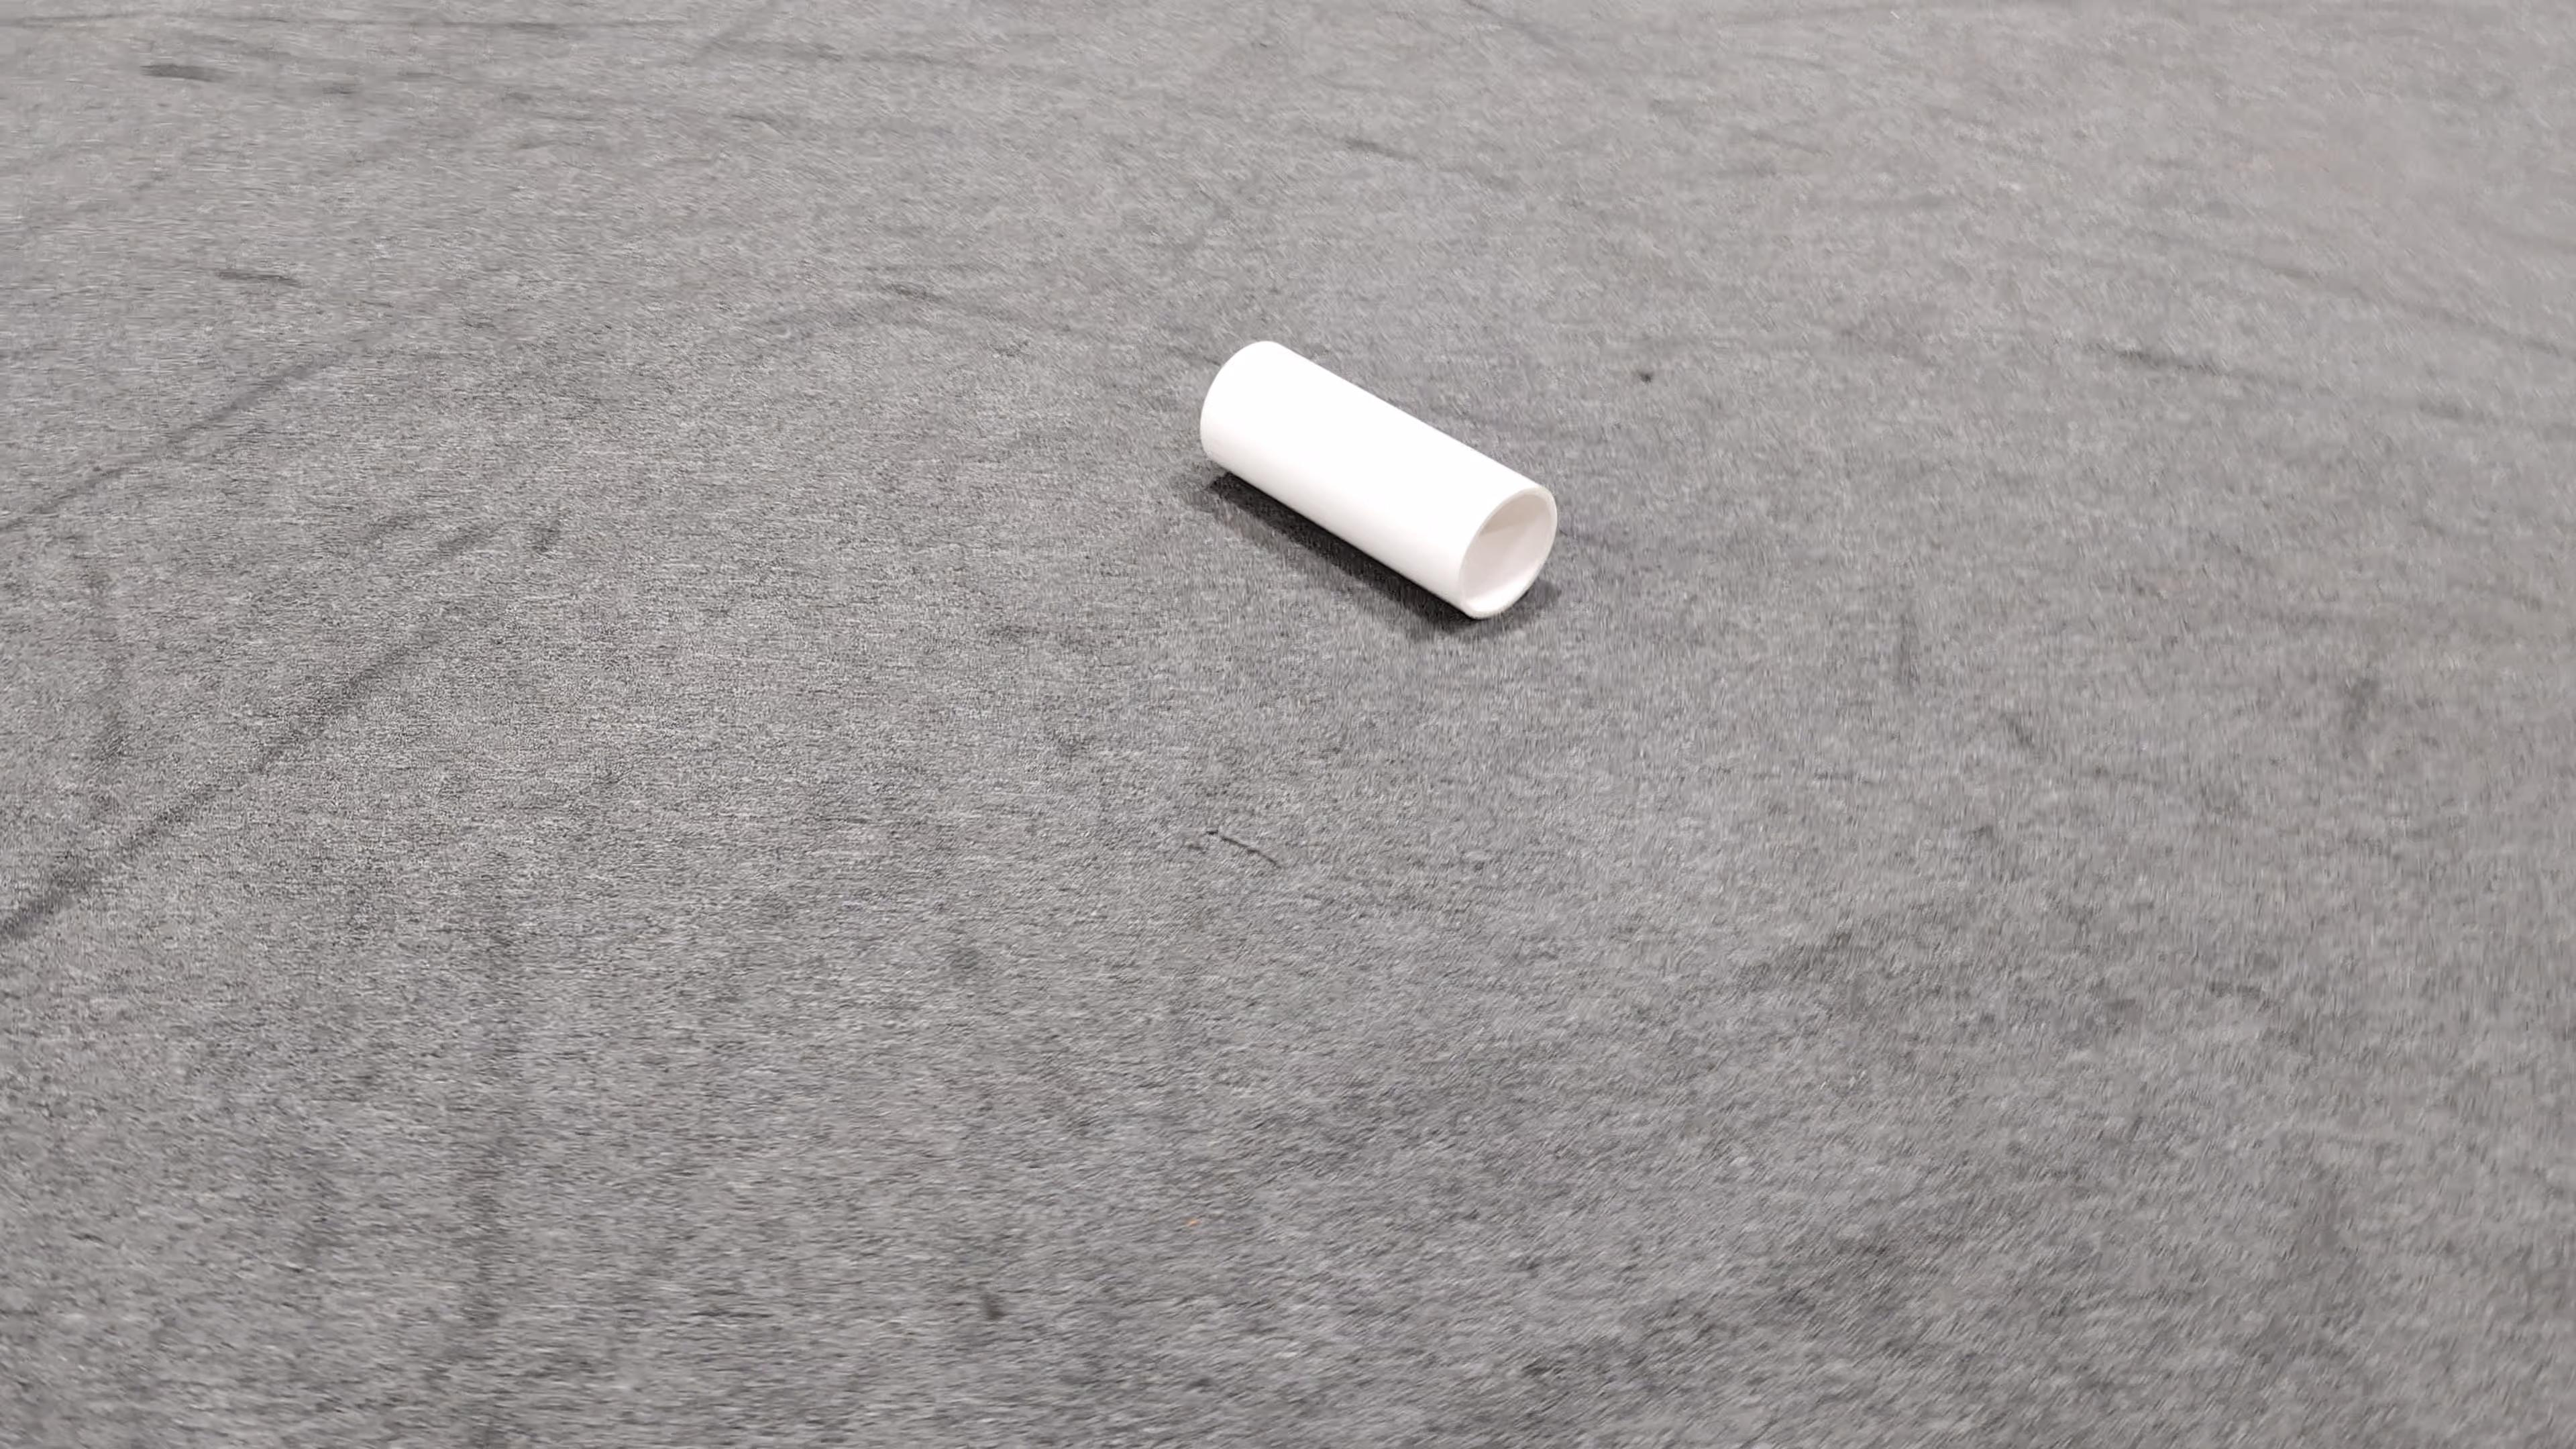coral: (1196, 338, 1560, 621)
